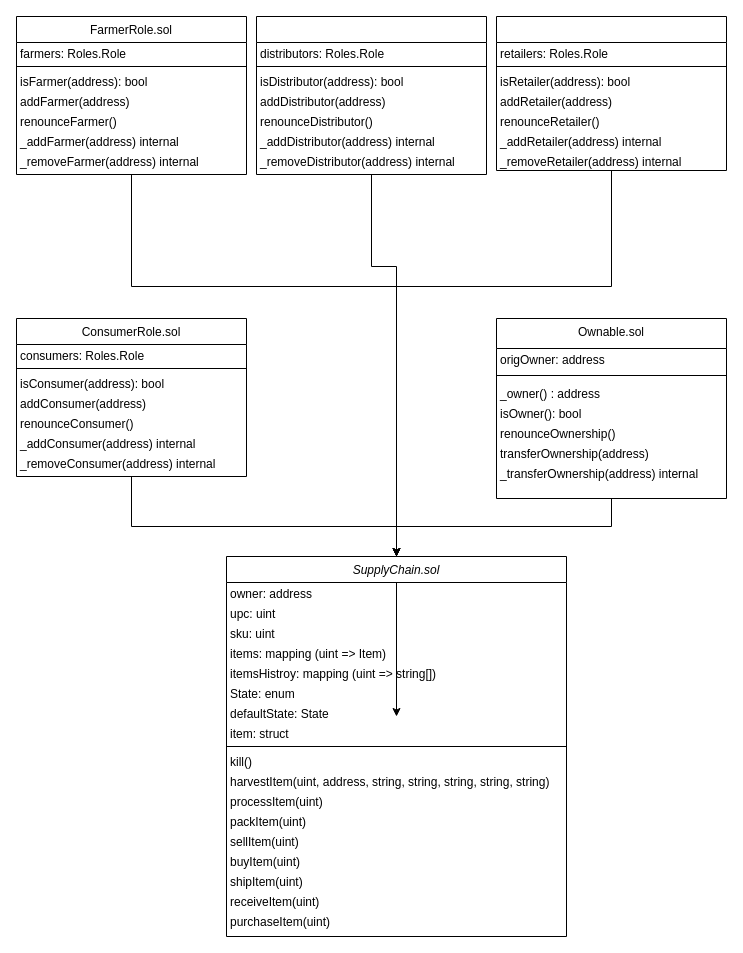
Some shapes in this 743 by 953 pixel diagram are drawn without their labels. Each missing label, with the box of its shape:
DistributorRole.sol: (256, 16, 486, 174)
RetailerRole.sol: (496, 16, 726, 170)
